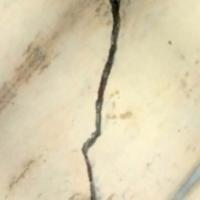crack: (63, 1, 145, 199)
